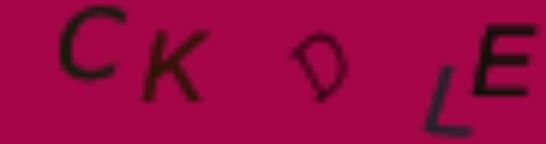C: (54, 4, 129, 82)
D: (284, 30, 354, 107)
E: (467, 19, 543, 100)
K: (136, 28, 216, 107)
L: (419, 65, 479, 144)
